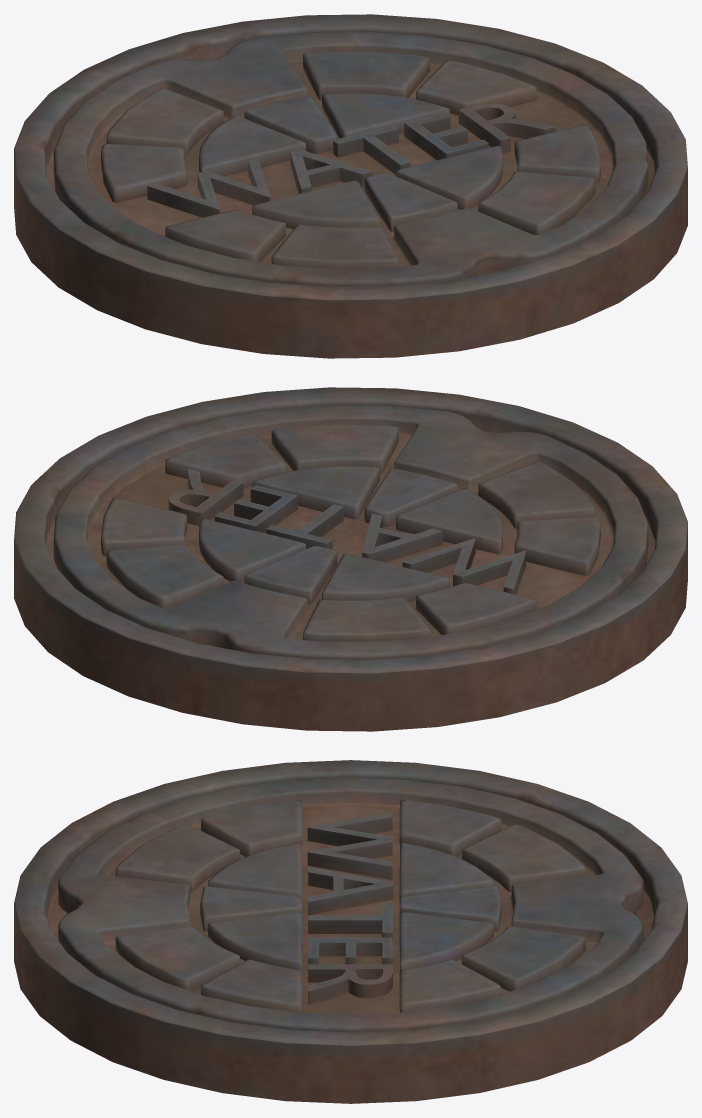
3 renders of one model, top to bottom at view 1: azimuth 30°, elevation 25°; view 2: azimuth 150°, elevation 25°; view 3: azimuth 270°, elevation 25°, orthographic.
Parts seen in each view (by area): view 1: water_manhole_cover, water_manhole_cover_frame; view 2: water_manhole_cover, water_manhole_cover_frame; view 3: water_manhole_cover, water_manhole_cover_frame.
Part boxes in pixels (left/top/right/bottom): water_manhole_cover: left=53, top=32, right=648, bottom=286; water_manhole_cover_frame: left=14, top=14, right=687, bottom=358; water_manhole_cover: left=53, top=405, right=648, bottom=659; water_manhole_cover_frame: left=14, top=387, right=687, bottom=731; water_manhole_cover: left=58, top=777, right=643, bottom=1032; water_manhole_cover_frame: left=14, top=760, right=687, bottom=1103.
Bounding box in the file's own units: 0.6908 × 0.0676 × 0.6908.
Materials: 1 (1 with a texture image).
